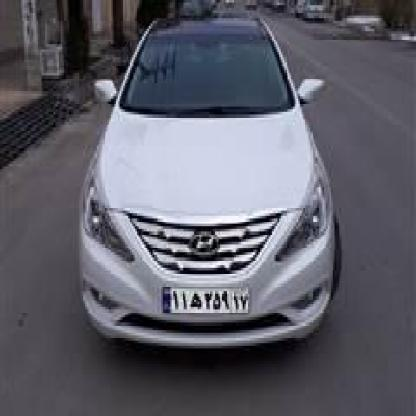Car: (66, 13, 343, 364)
